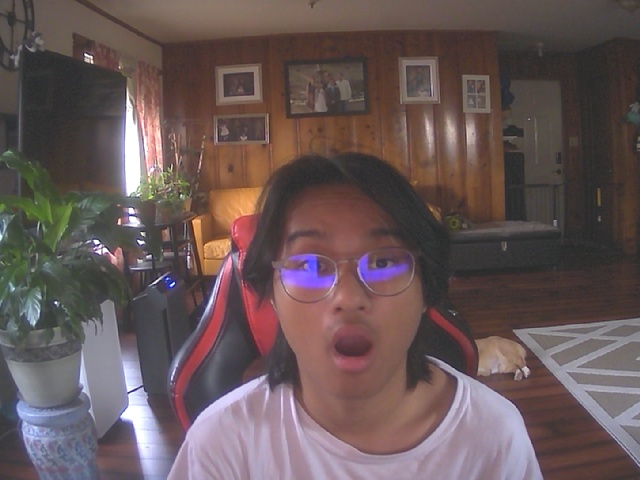fear: (274, 183, 428, 401)
